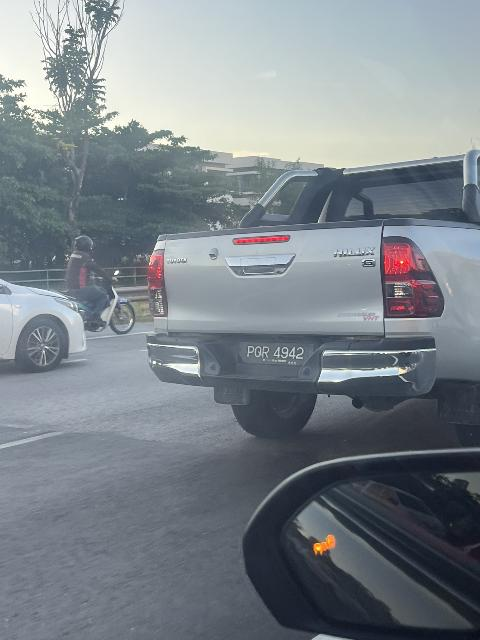License_Plate: (229, 339, 322, 372)
car: (145, 158, 480, 433)
